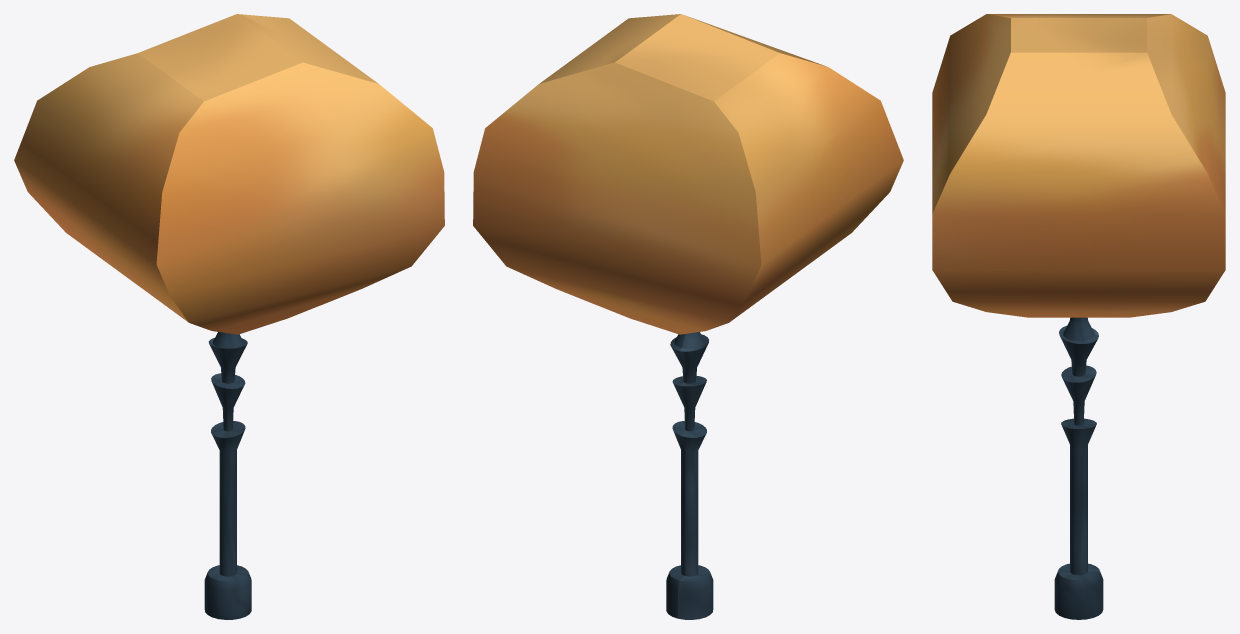
Rendered from Round Fruit Tree FBX.fbx.
The picture shows the model from 3 angles, left to right: view 1: azimuth 30°, elevation 25°; view 2: azimuth 150°, elevation 25°; view 3: azimuth 270°, elevation 25°; orthographic projection. The views are drawn at different scales.
Visible parts, largest first — view 1: pCube2; view 2: pCube2; view 3: pCube2.
Boxes of the visible parts, x1,y1,x2,y2 form: pCube2: (14, 14, 444, 619); pCube2: (473, 14, 903, 619); pCube2: (932, 14, 1225, 619).
Bounding box in the file's own units: 2.78 × 5.18 × 2.38.
1 material, 1 textured.
